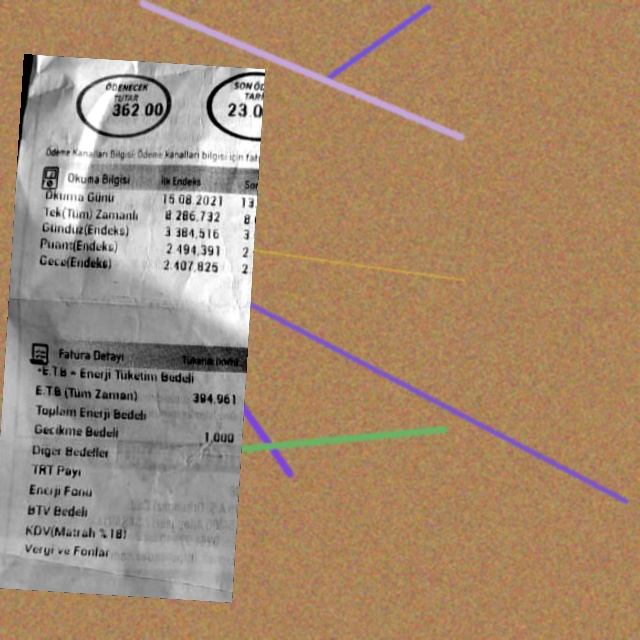electricity-bill: (0, 54, 264, 602)
